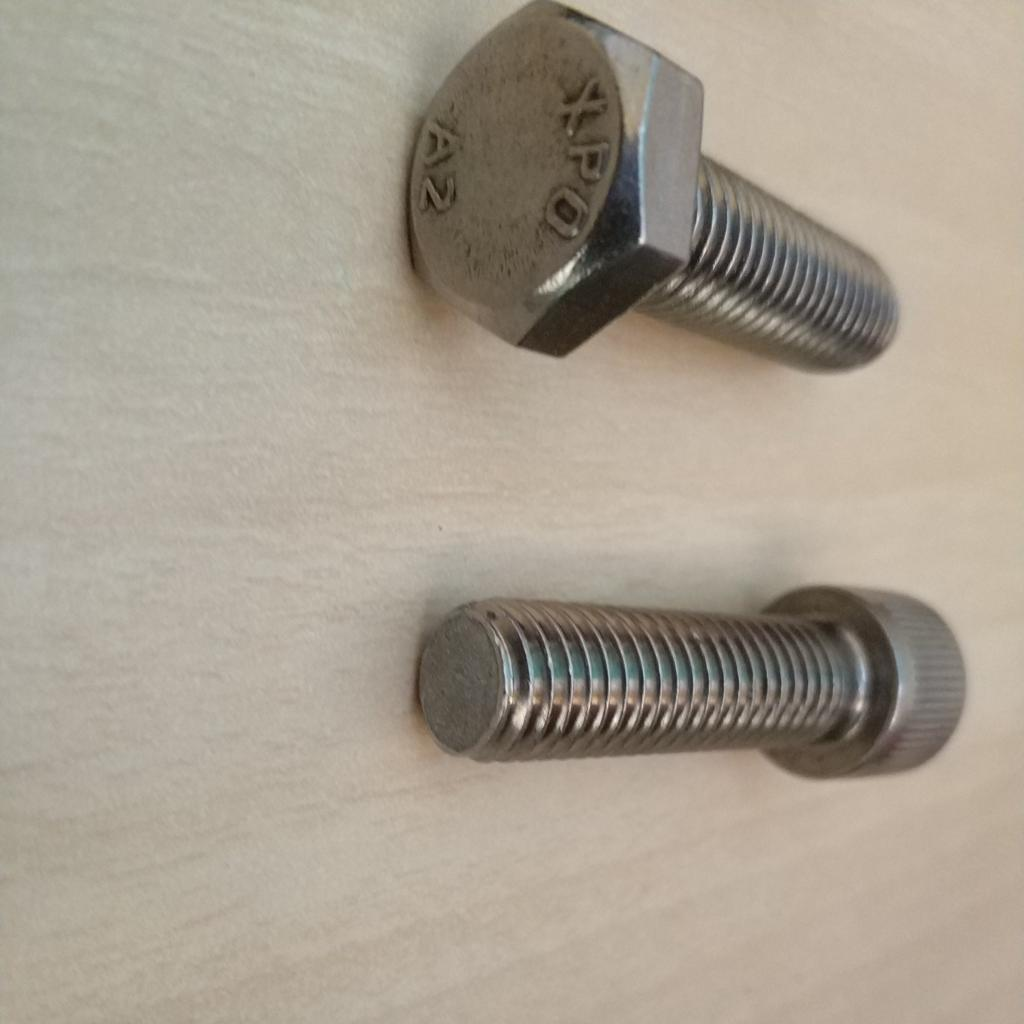screwtype1silver: (409, 574, 971, 788)
screwtype2silver: (402, 1, 901, 398)
